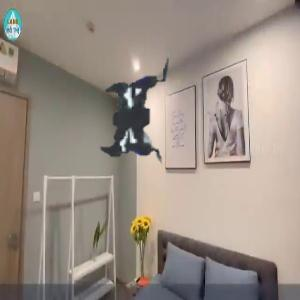drone: (33, 11, 249, 227)
